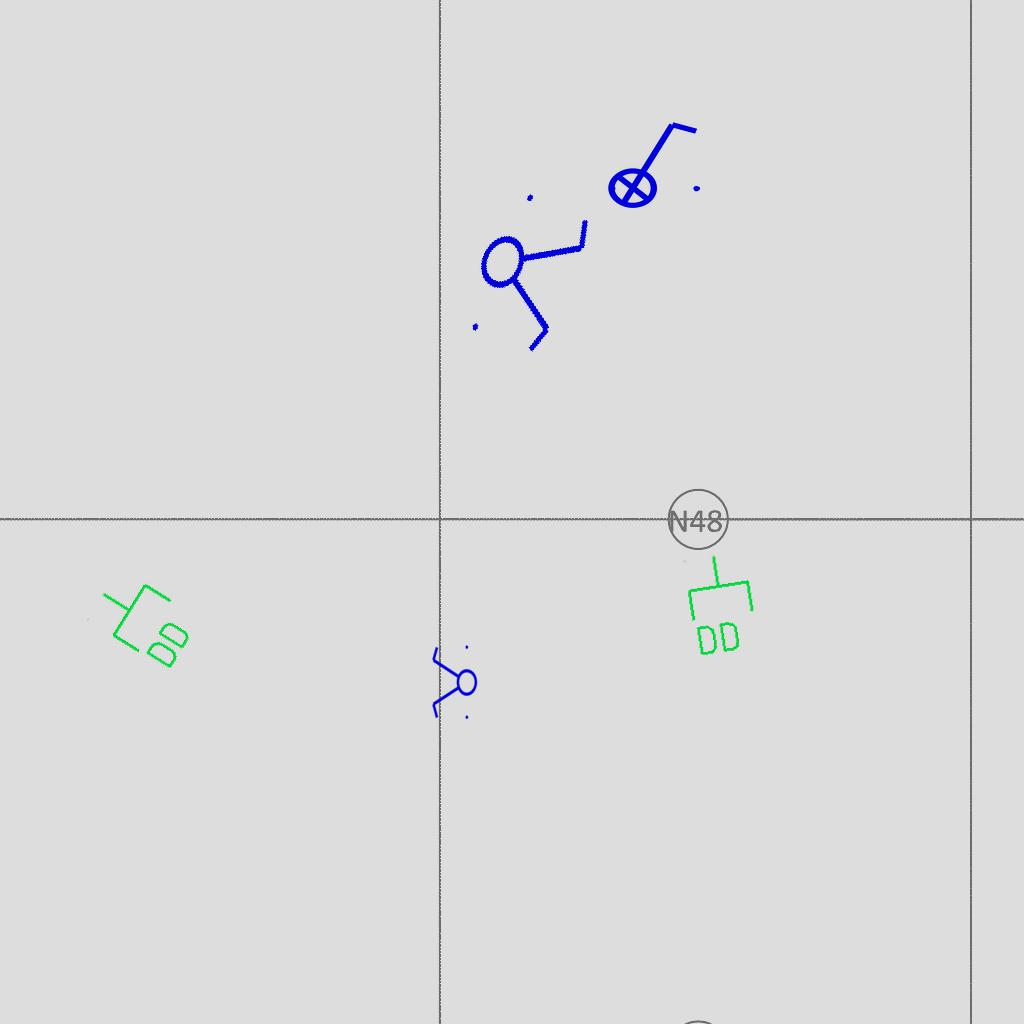Ausschalter_beleuchtet: (594, 114, 706, 210)
Datenanschluss_zweifach: (82, 563, 207, 678), (678, 548, 763, 661)
Serienschalter: (449, 174, 605, 368), (430, 641, 478, 725)
